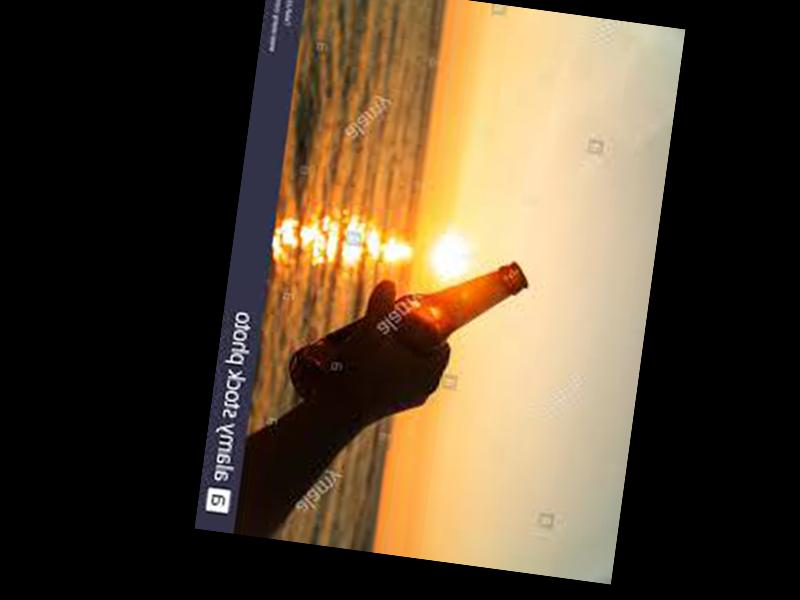Beer: (284, 234, 534, 432)
